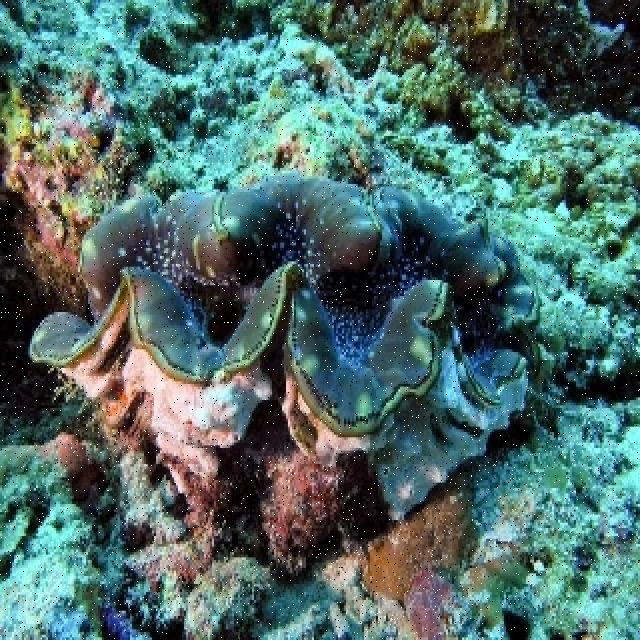reefs: (29, 170, 541, 520), (122, 350, 271, 494), (56, 289, 158, 449), (281, 347, 371, 466), (260, 449, 342, 572)
